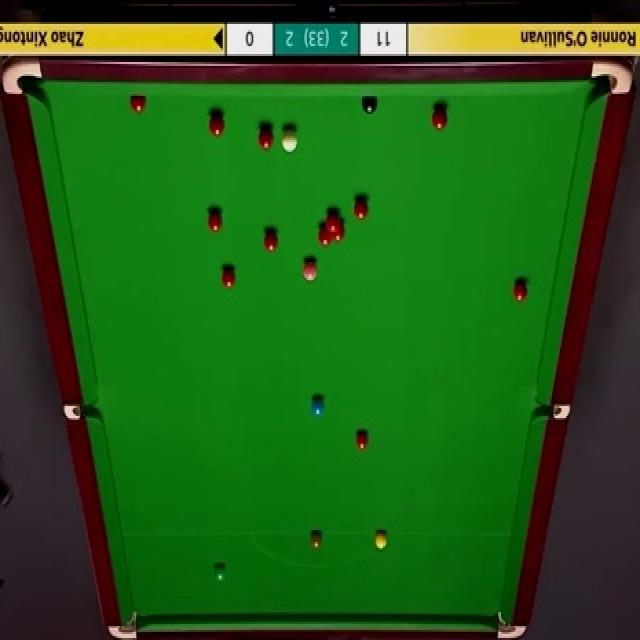black-ball: (361, 95, 378, 114)
blue-ball: (311, 395, 325, 418)
brown-ball: (310, 529, 324, 552)
green-ball: (213, 562, 228, 582)
pink-ball: (302, 258, 317, 286)
red-ball: (220, 262, 237, 291), (512, 277, 530, 304), (208, 111, 225, 137), (431, 106, 448, 131), (207, 208, 223, 234), (258, 125, 274, 151), (264, 228, 279, 253), (354, 431, 369, 454), (354, 197, 368, 221), (318, 222, 332, 246), (130, 96, 146, 116), (326, 210, 339, 230), (332, 222, 345, 242)
white-ball: (281, 124, 300, 157)
yellow-ball: (375, 531, 388, 551)
